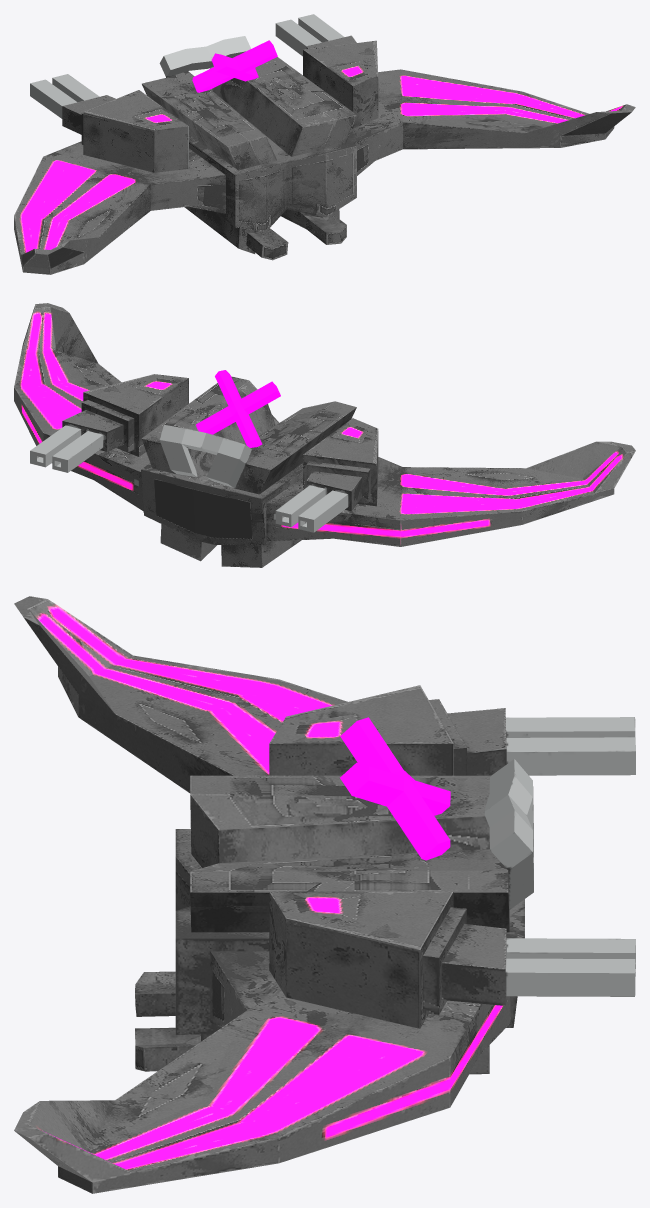
The model's file is Drone_Croix.fbx.
3 renders of one model, top to bottom at view 1: azimuth 30°, elevation 25°; view 2: azimuth 150°, elevation 25°; view 3: azimuth 270°, elevation 25°, orthographic. The views are drawn at different scales.
Visible parts, largest first — view 1: DroneCroix; view 2: DroneCroix; view 3: DroneCroix.
Part boxes in pixels (x1=…): DroneCroix: x1=14, y1=14, x2=635, y2=274; DroneCroix: x1=14, y1=303, x2=635, y2=567; DroneCroix: x1=14, y1=596, x2=635, y2=1193.
Size of the model in its own units: 987 by 262 by 479.
2 materials, 1 textured.
